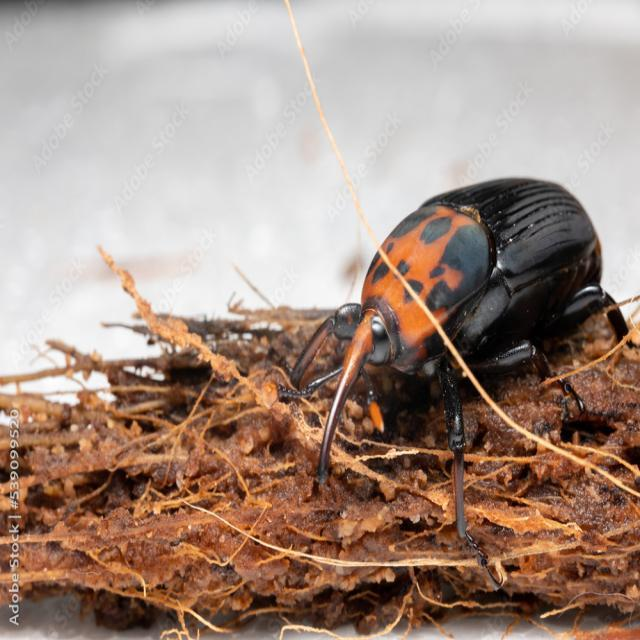Red-palm-weevil: (306, 171, 634, 501)
